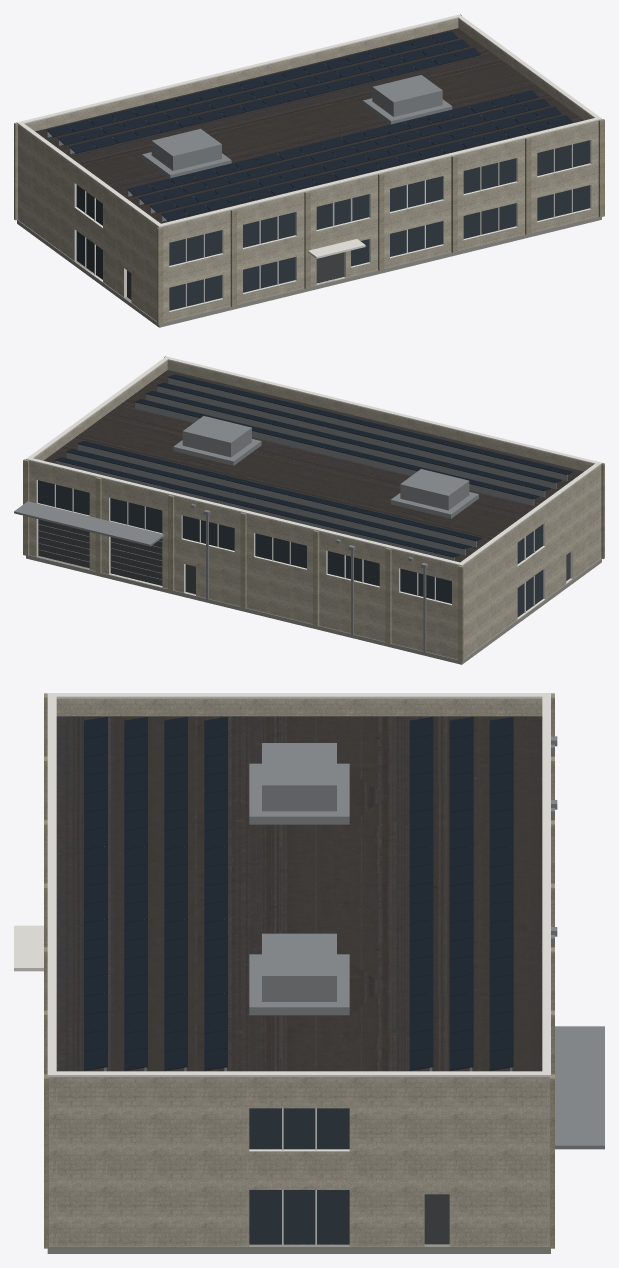
Rendered from w1-solar.glb.
The picture shows the model from 3 angles, top to bottom: view 1: azimuth 30°, elevation 25°; view 2: azimuth 150°, elevation 25°; view 3: azimuth 270°, elevation 25°; orthographic projection. The views are drawn at different scales.
Visible parts, largest first — view 1: w1-solar; view 2: w1-solar; view 3: w1-solar.
Boxes of the visible parts, <box> form: w1-solar: <box>14,14,604,327</box>; w1-solar: <box>14,356,604,664</box>; w1-solar: <box>14,693,604,1253</box>.
Bounding box in the file's own units: 36.4 × 8.5 × 23.6.
Materials: 10 (3 with a texture image).
